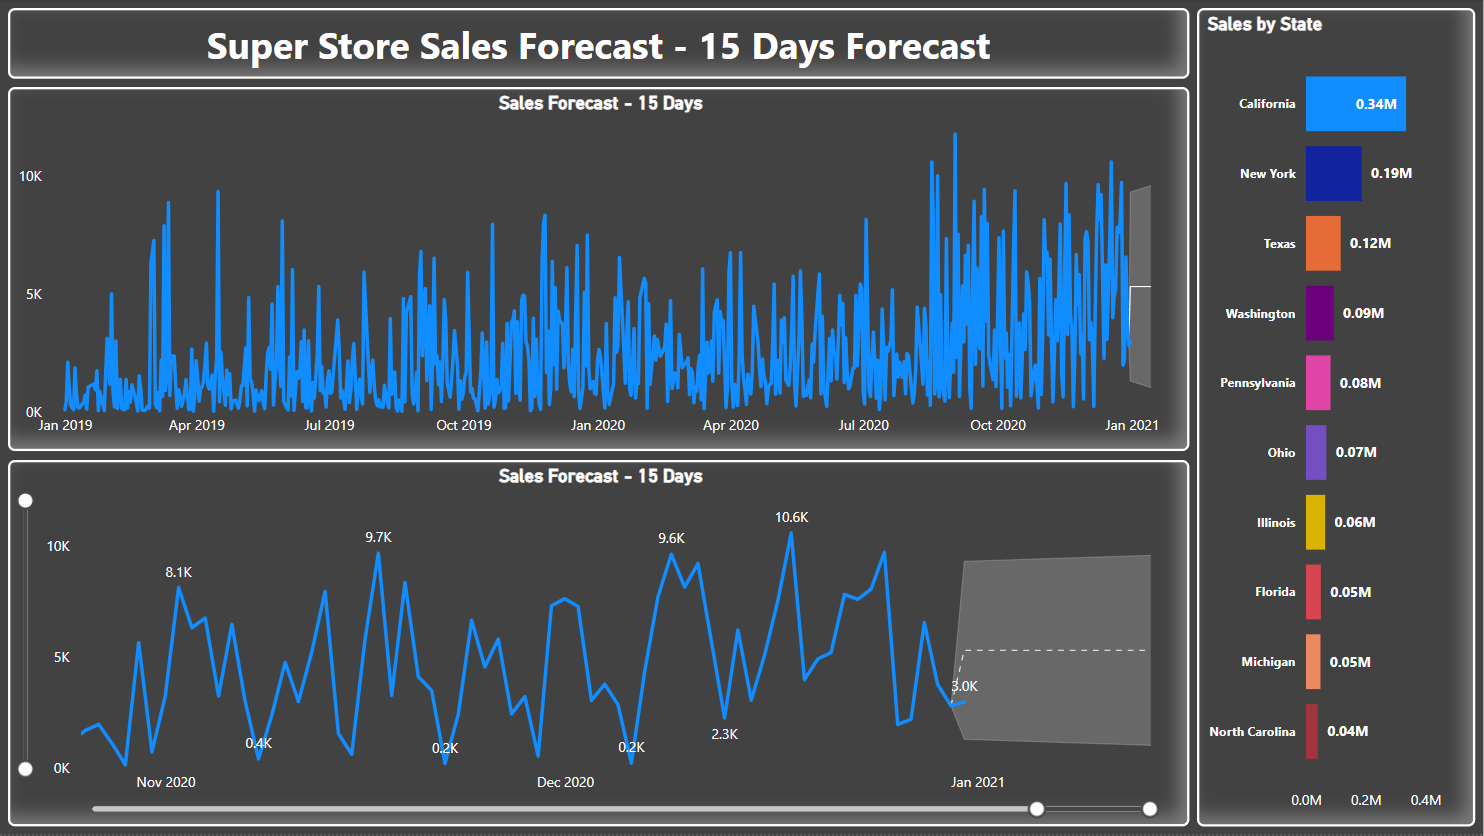

The page's visual inventory and layout, read from the dashboard file:
{"tool":"powerbi","page":{"name":"Super Store Sales Forecast - 15 Days","canvas":[1280,720],"ordinal":1},"visuals":[{"type":"barChart","title":"Sales by State","fields":{"Y":["Sum(SuperStore_Sales_Dataset.Sales)"],"Category":["SuperStore_Sales_Dataset.State"]},"box":[1033.3,7.8,239.8,705.6],"z":0},{"type":"lineChart","title":"Sales Forecast - 15 Days","fields":{"Y":["Sum(SuperStore_Sales_Dataset.Sales)"],"Category":["SuperStore_Sales_Dataset.Order Date"]},"box":[7.8,75.9,1018.7,314],"z":1},{"type":"lineChart","title":"Sales Forecast - 15 Days","fields":{"Y":["Sum(SuperStore_Sales_Dataset.Sales)"],"Category":["SuperStore_Sales_Dataset.Order Date"]},"box":[7.8,397.6,1018.7,315.7],"z":2},{"type":"textbox","box":[7.8,7.8,1018.7,61.2],"z":3}]}

Visuals, with their boxes in screenshot pixels (x1, y1, x2, y2), scaled from the page's 1280x720 canvas onto the 1484x836 screenshot:
"Sales by State" barChart: 1198/9/1476/828
"Sales Forecast - 15 Days" lineChart: 9/88/1190/453
"Sales Forecast - 15 Days" lineChart: 9/462/1190/828
textbox: 9/9/1190/80
